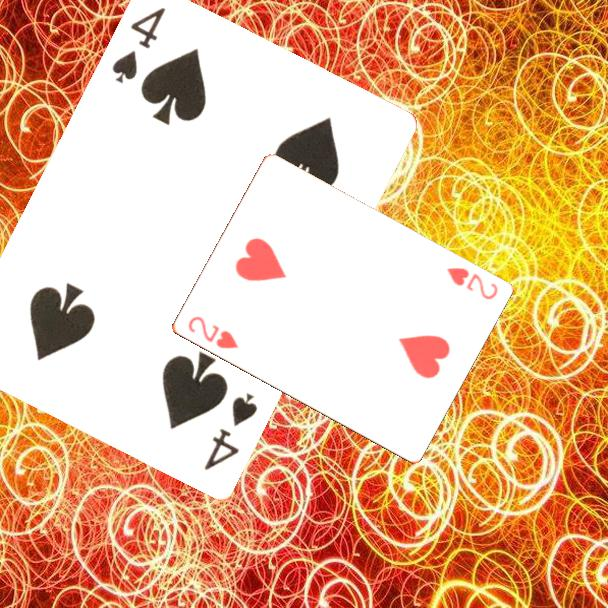h02: (443, 264, 501, 303), (184, 313, 241, 352)
s04: (200, 388, 260, 473), (108, 3, 168, 86)
